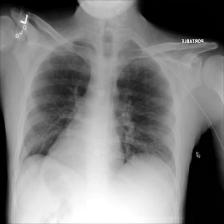normal: (13, 33, 180, 175)
